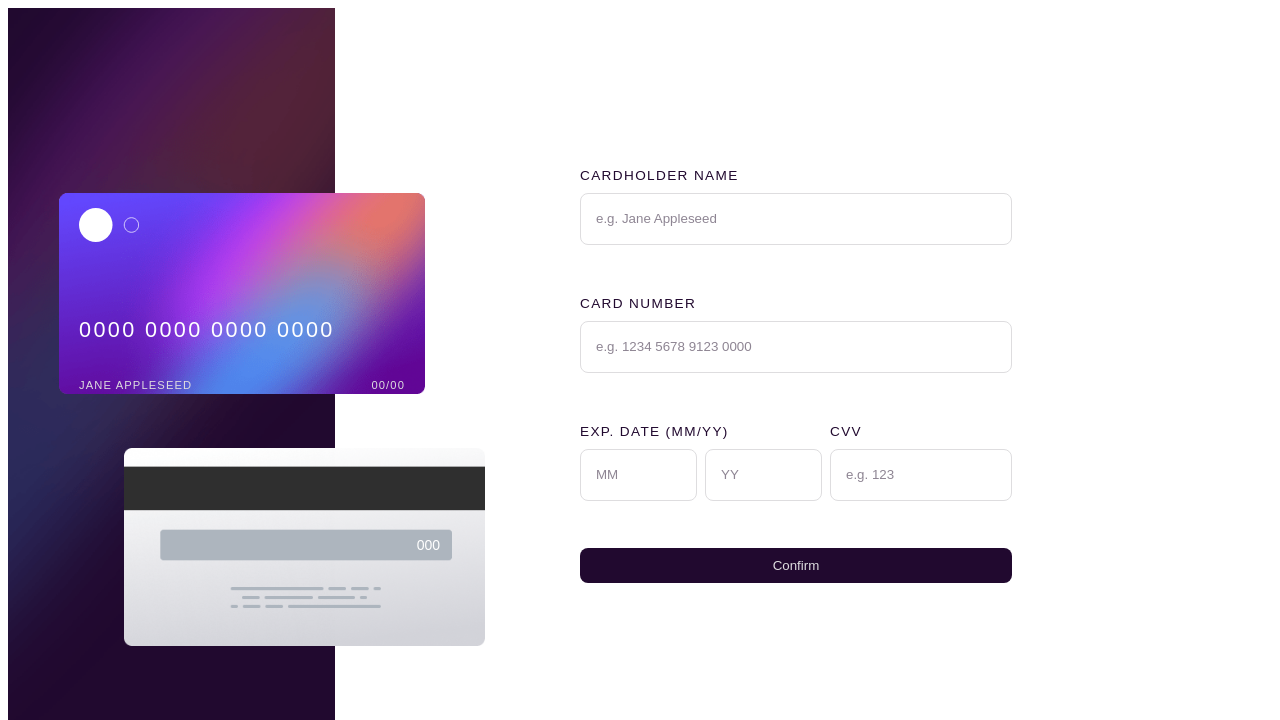
Test: App › Filling in card details correctly prompts a Thank You Screen indicating success
This screenshot has width=1280, height=720.
Type "John Doe" into the field with placeholder "e.g. Jane Appleseed" at (796, 218), box [580,192,1012,244]
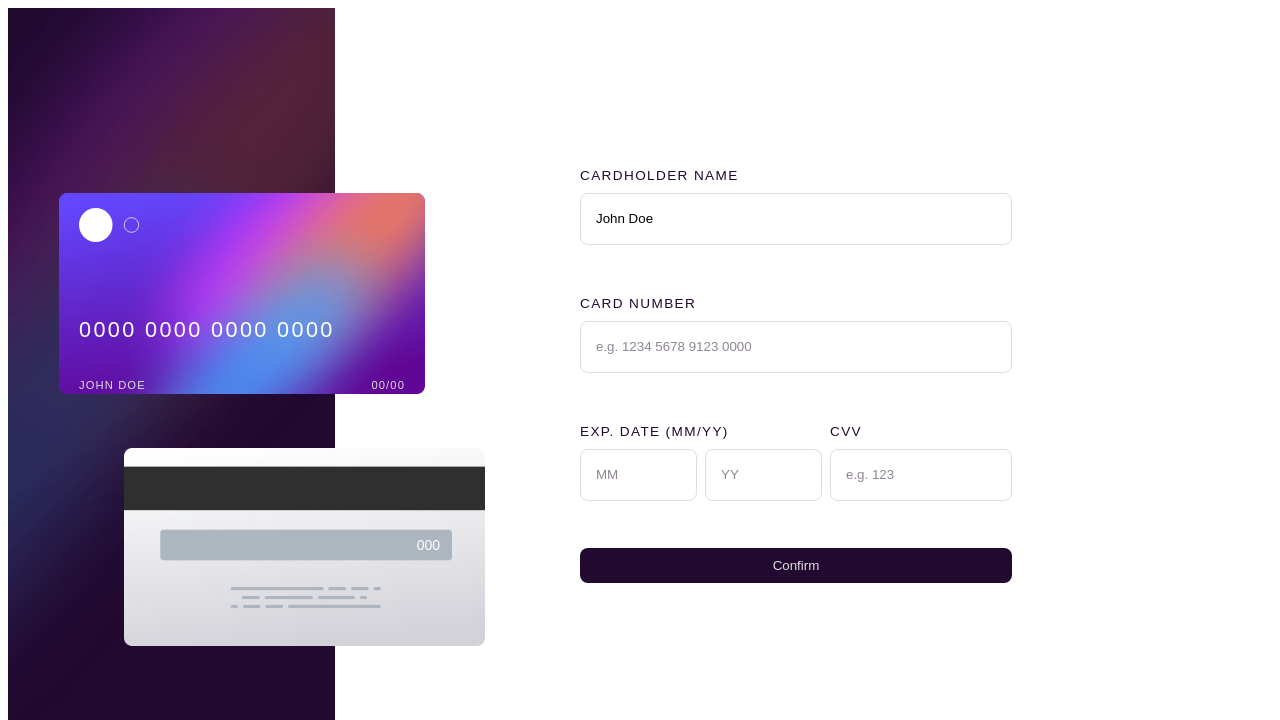
Type "1234 5678 9123 1212" into the field with placeholder "e.g. 1234 5678 9123 0000" at (796, 346), box [580,320,1012,372]
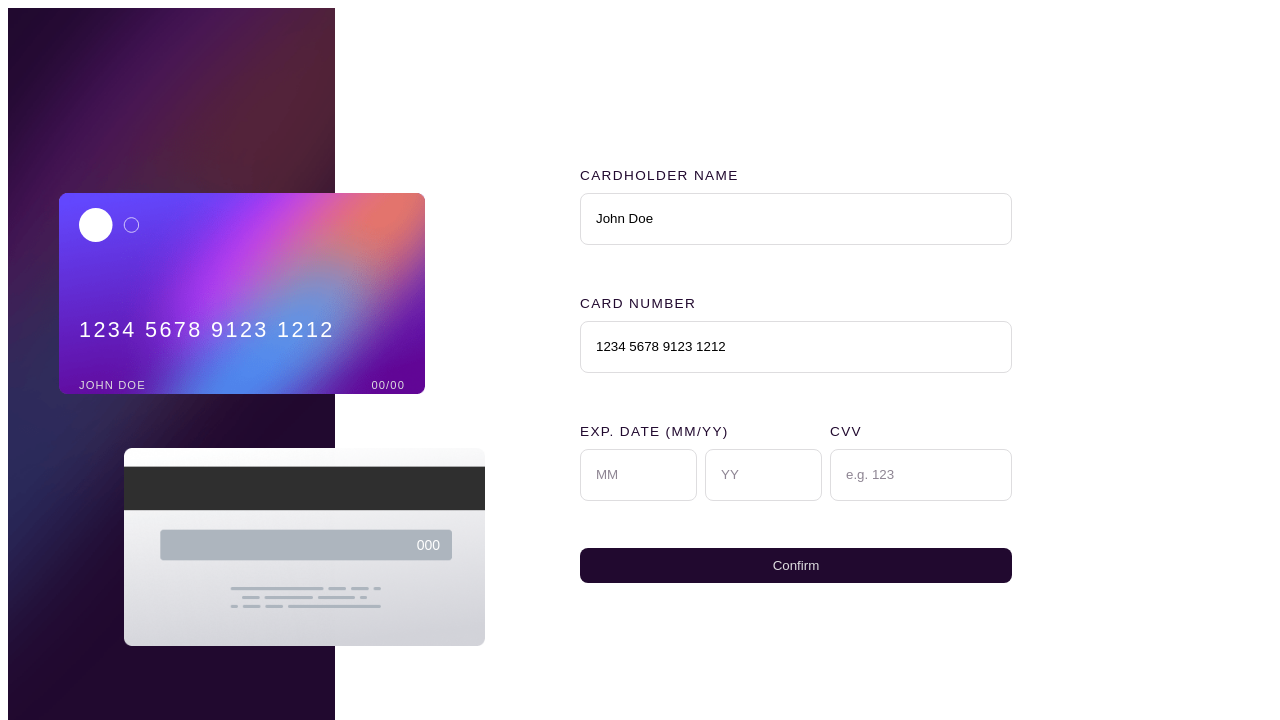
Type "08" into the field with placeholder "MM" at (638, 474), box [580,448,697,500]
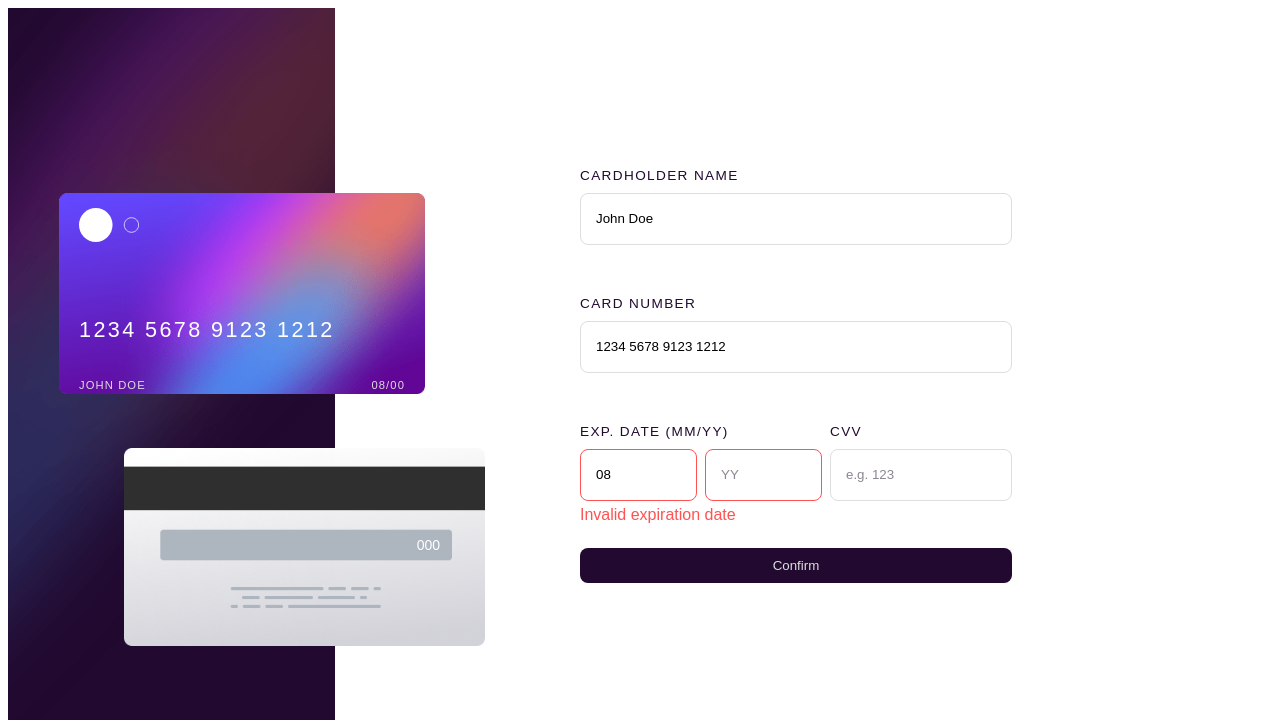
Type "29" into the field with placeholder "YY" at (764, 474), box [705,448,822,500]
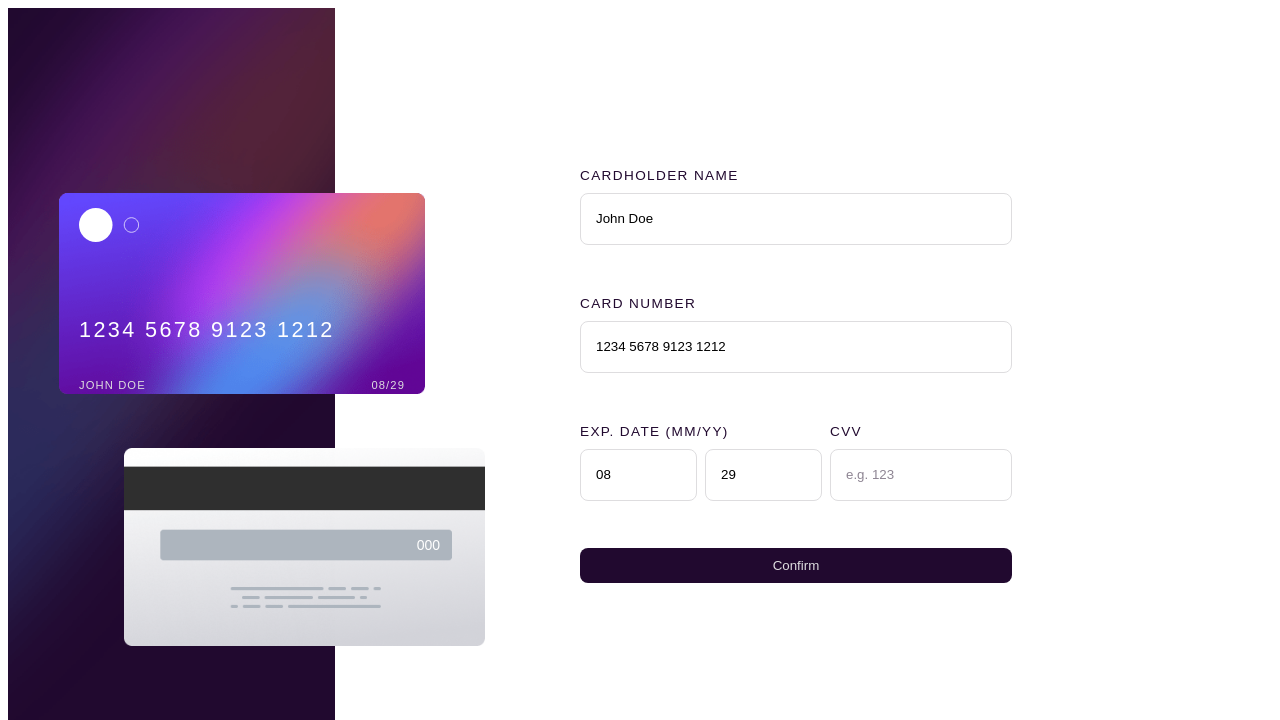
Type "1234" into the field with placeholder "e.g. 123" at (921, 474), box [830,448,1012,500]
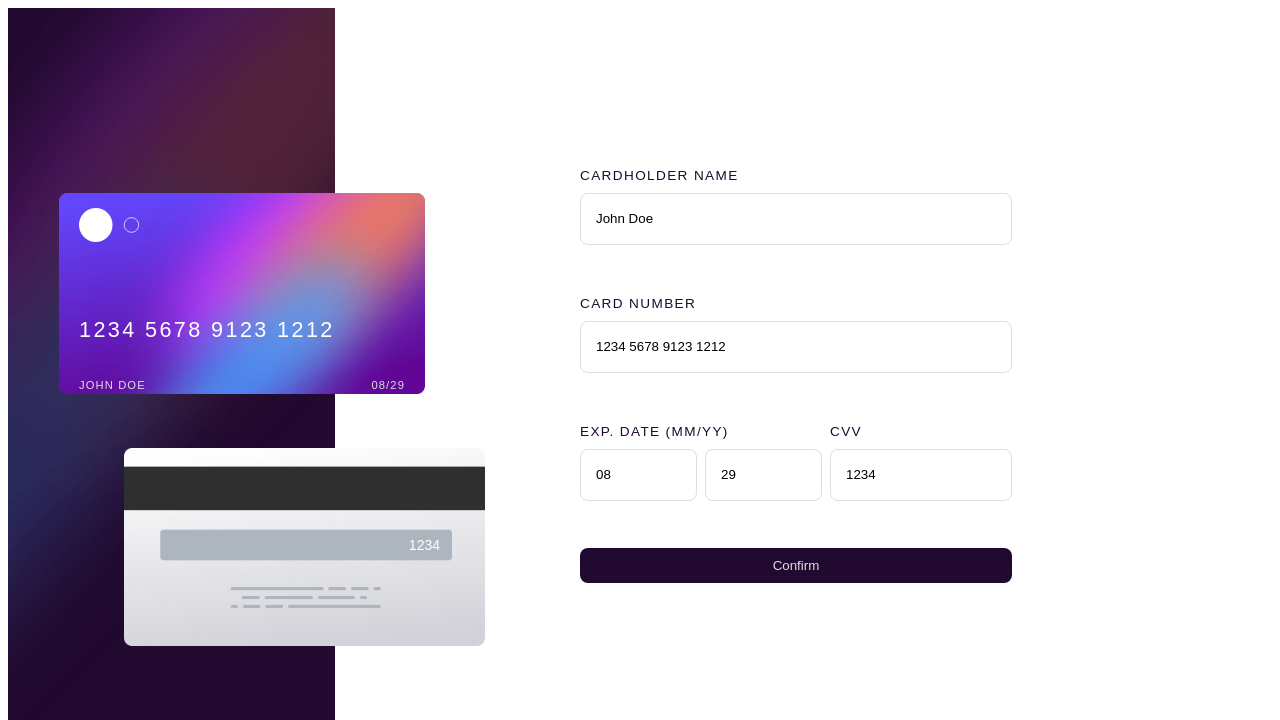
Click the button at (796, 565), box [580,548,1012,582]
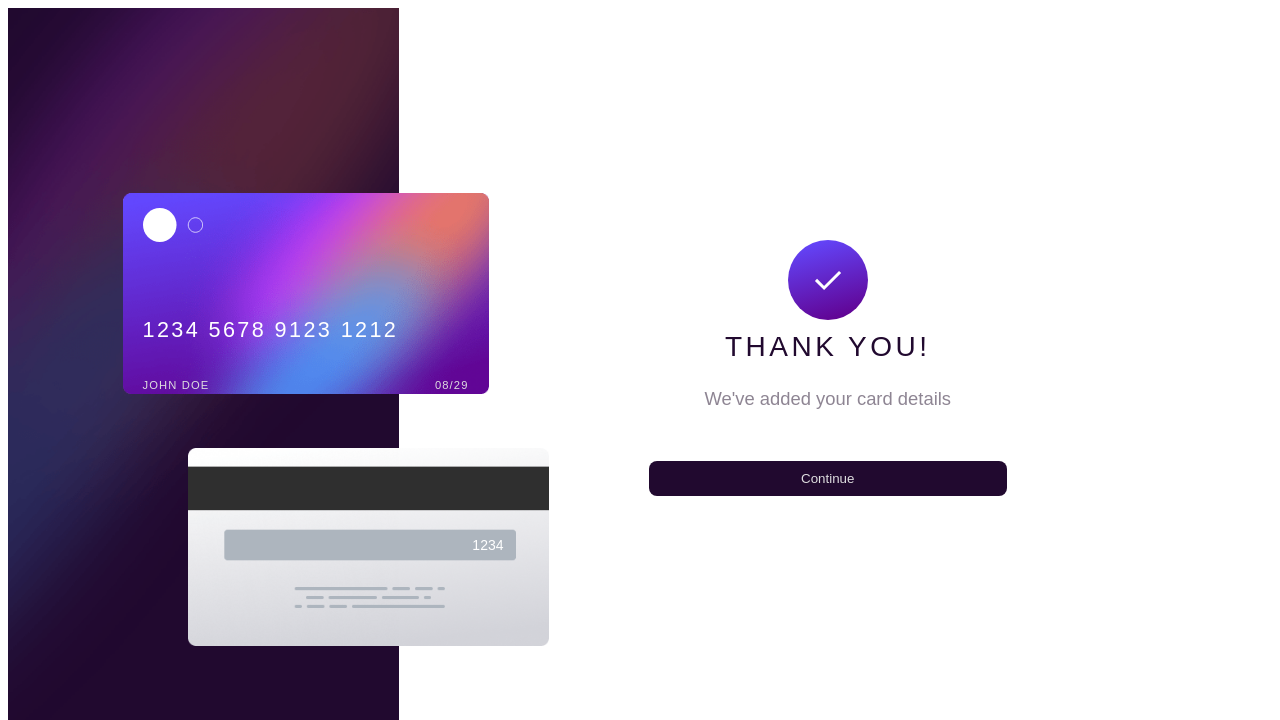
Expected: the text "We've added your card details" is shown, [704,387,951,411]
